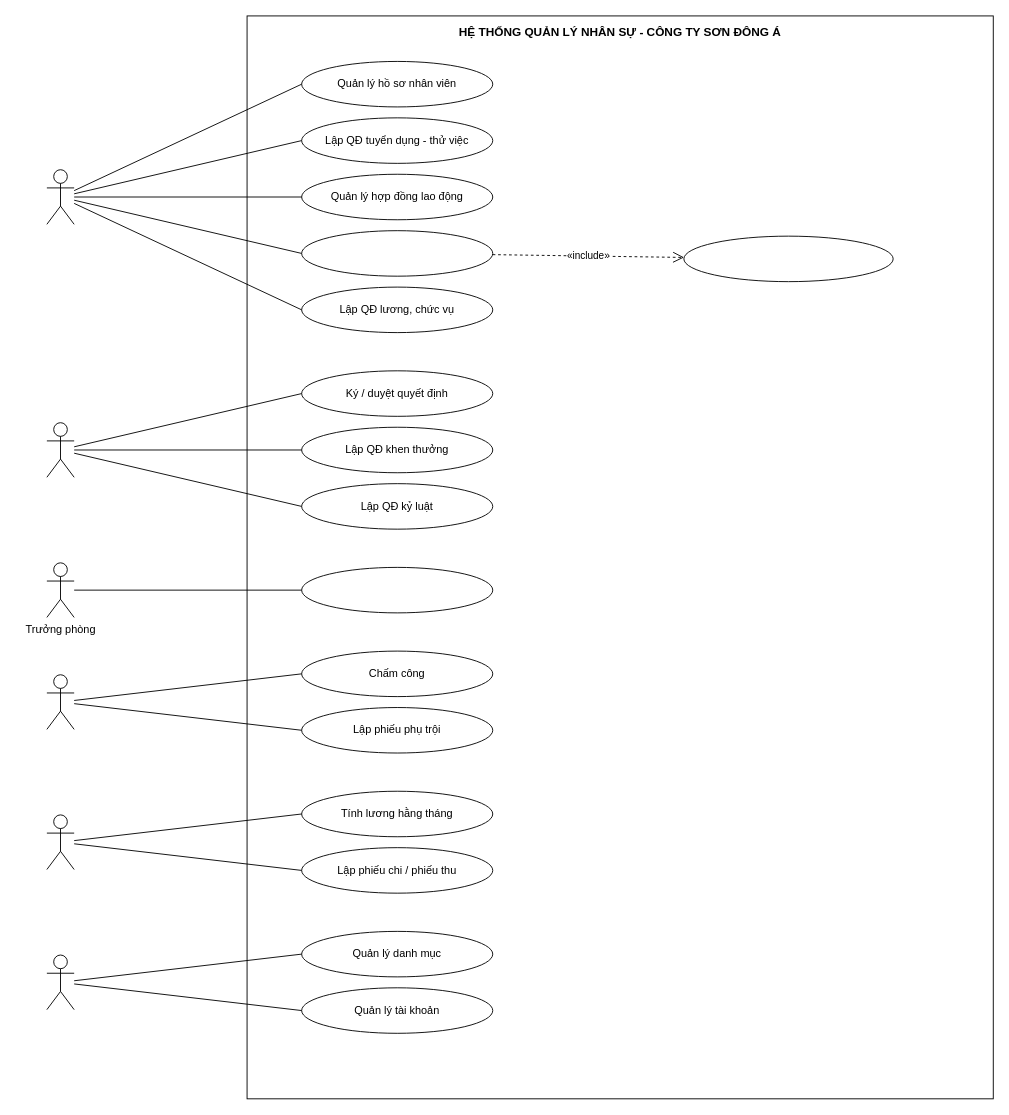
Image size: 1009x1115. Some labels were removed from this diagram. Each missing label, with the centre of its shape:
"Ban chấm công" goes at point 60,701.
"Giám đốc" goes at point 60,449.
"Kiểm tra HĐ dài hạn" goes at point 788,258.
"Kế toán tiền lương" goes at point 60,842.
"Lập kế hoạch phân công tuần" goes at point 397,589.
"Phòng nhân sự" goes at point 60,196.
"Quản lý hồ sơ BHXH, BHYT" goes at point 397,253.
"Quản trị hệ thống" goes at point 60,982.
